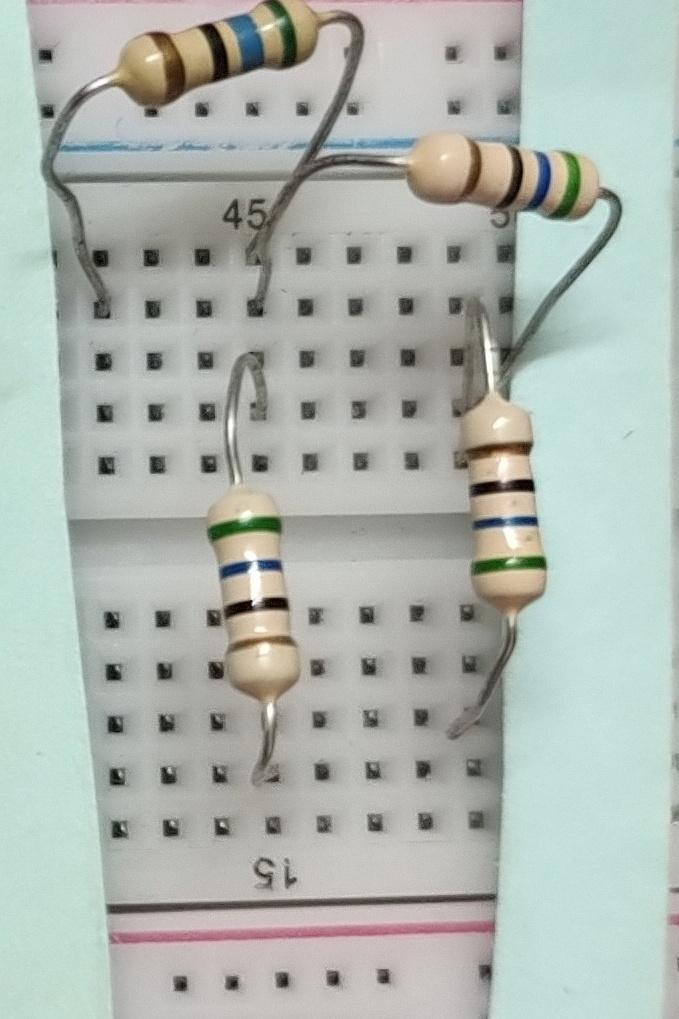resistor: (109, 0, 340, 145), (199, 467, 316, 715), (399, 117, 612, 244), (449, 383, 559, 625)
